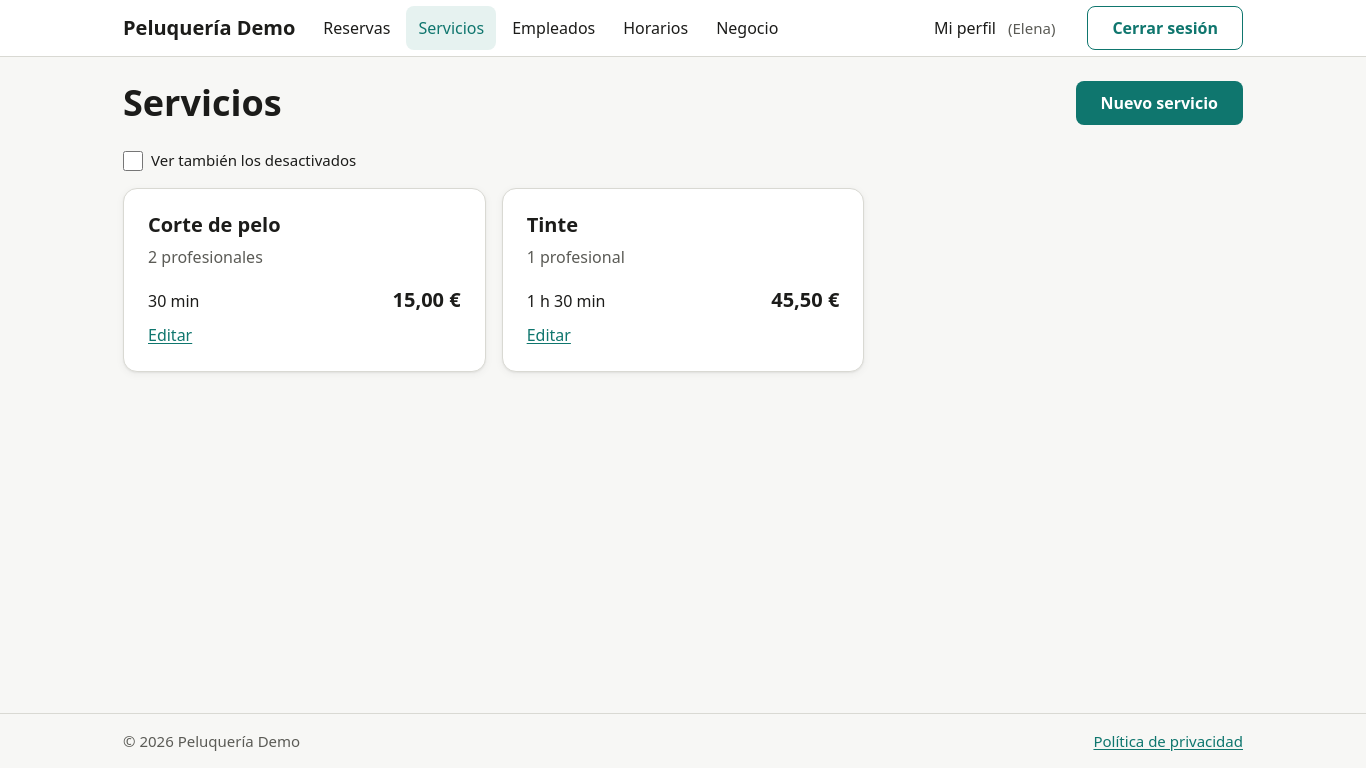
servicios (CU-016) › oculta los desactivados hasta que se piden
The width and height of the screenshot is (1366, 768).
Expected: the heading "Tinte" is shown, [527,210,578,238]
Expected: the text "2 profesionales" is shown, [148,246,263,268]
What coordinates should you click on to do the following:
click the checkbox labelled "Ver también los desactivados"
I would click on:
 (133, 161)
Its box is [123,151,143,171].
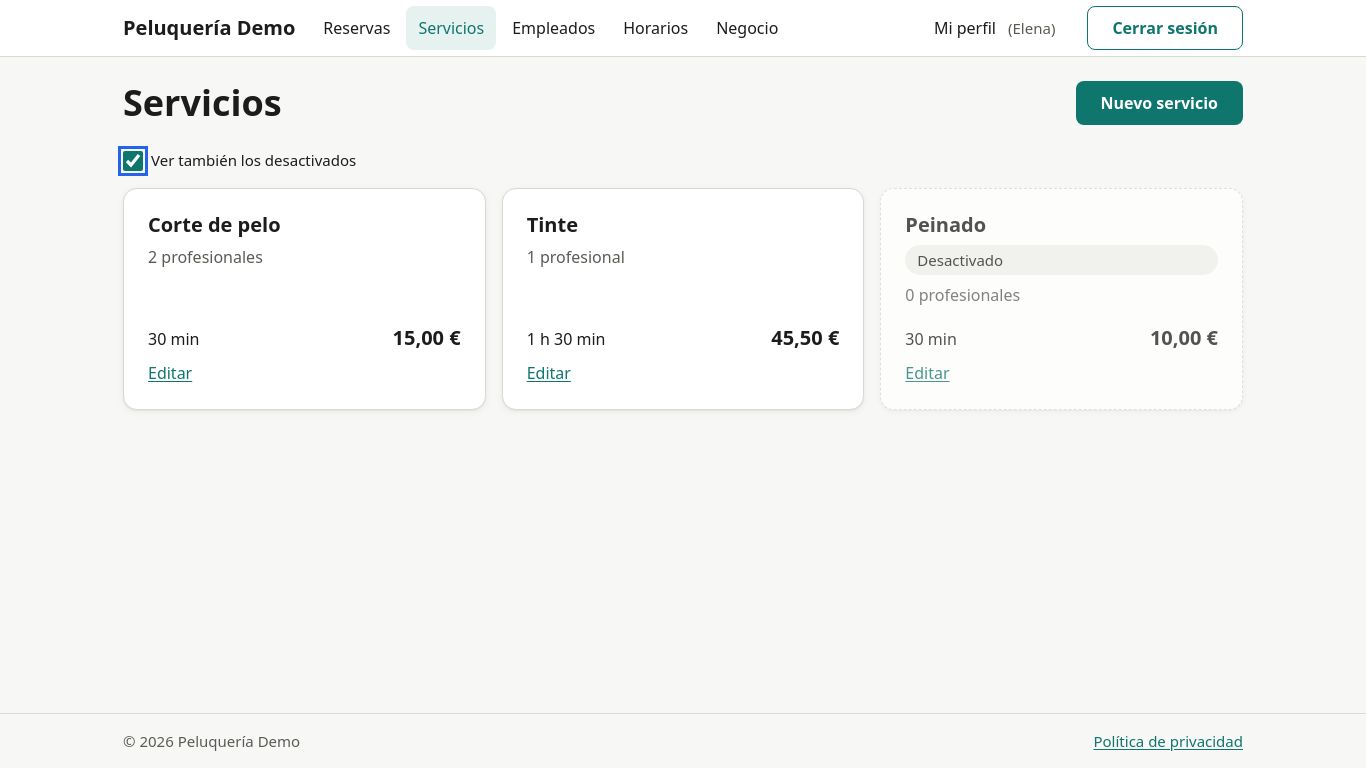
Expected: the heading "Peinado" is shown, [905,210,986,238]
Expected: the text "Desactivado" is shown, [905,244,1218,275]
